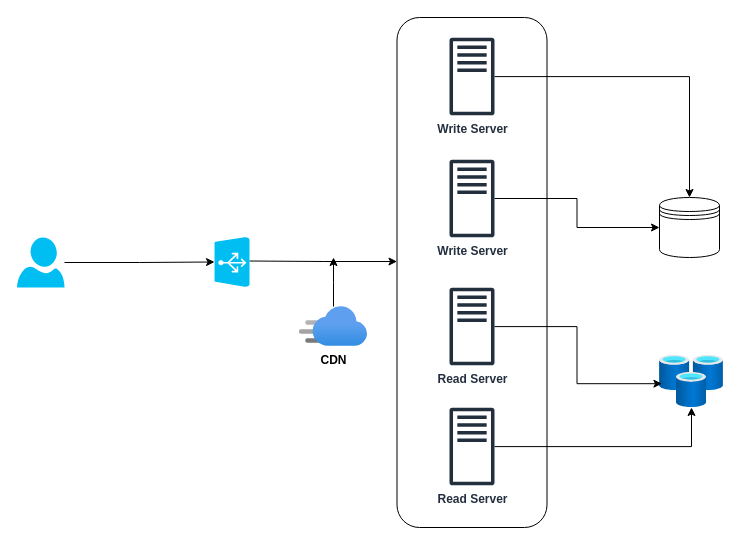
This 741x545 diagram has some shape labels left out. The box of each missing label's shape, as (x1, y1, x2, y2) in pixels:
Cache: (659, 355, 723, 407)
RDBMS: (658, 196, 720, 258)
